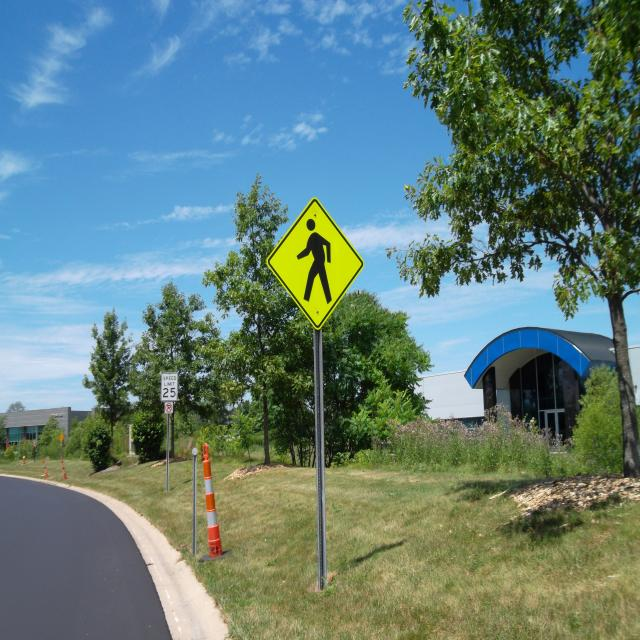regulatory: (160, 371, 180, 405), (163, 400, 174, 415)
warning: (265, 196, 365, 330)
